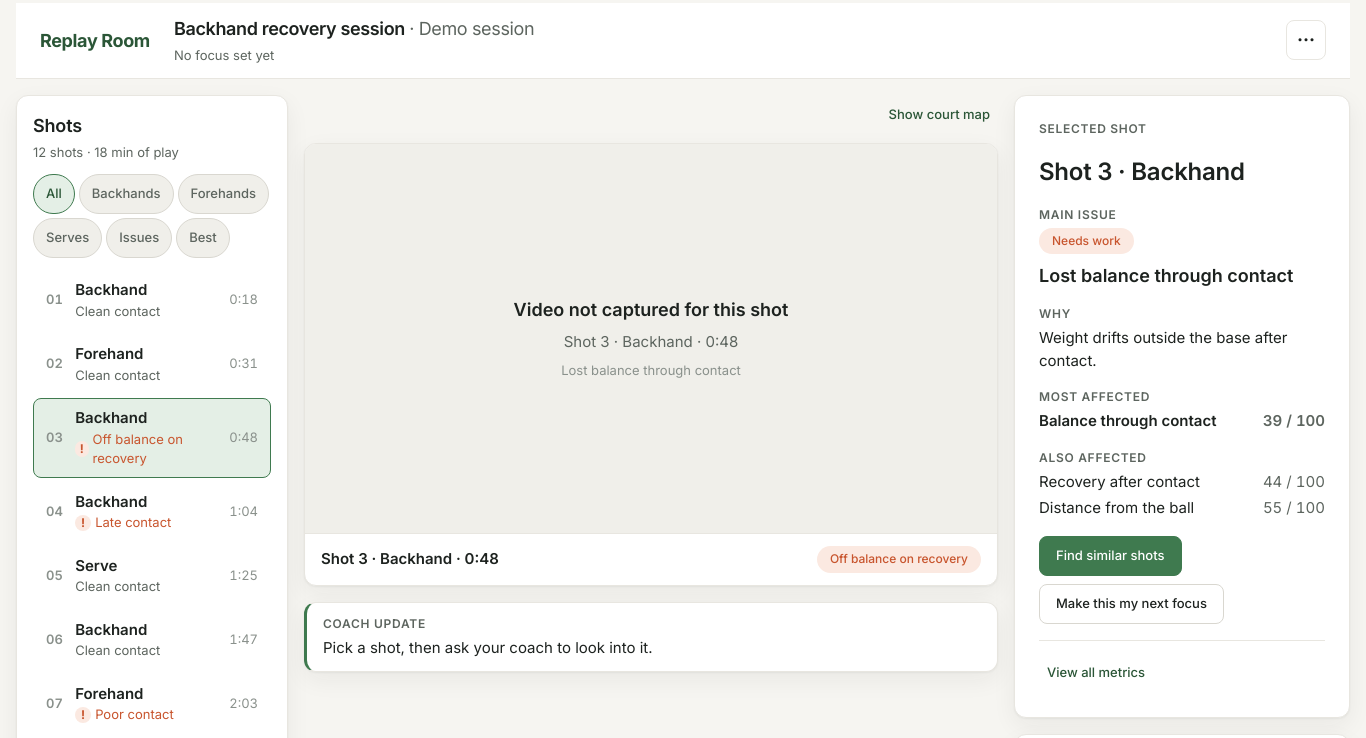
App similar shots and comparison › removing a shot from the strip narrows the shared set
Click the button "Find similar shots".
click(1110, 556)  # box [1039,536,1182,576]
(page scrolled)
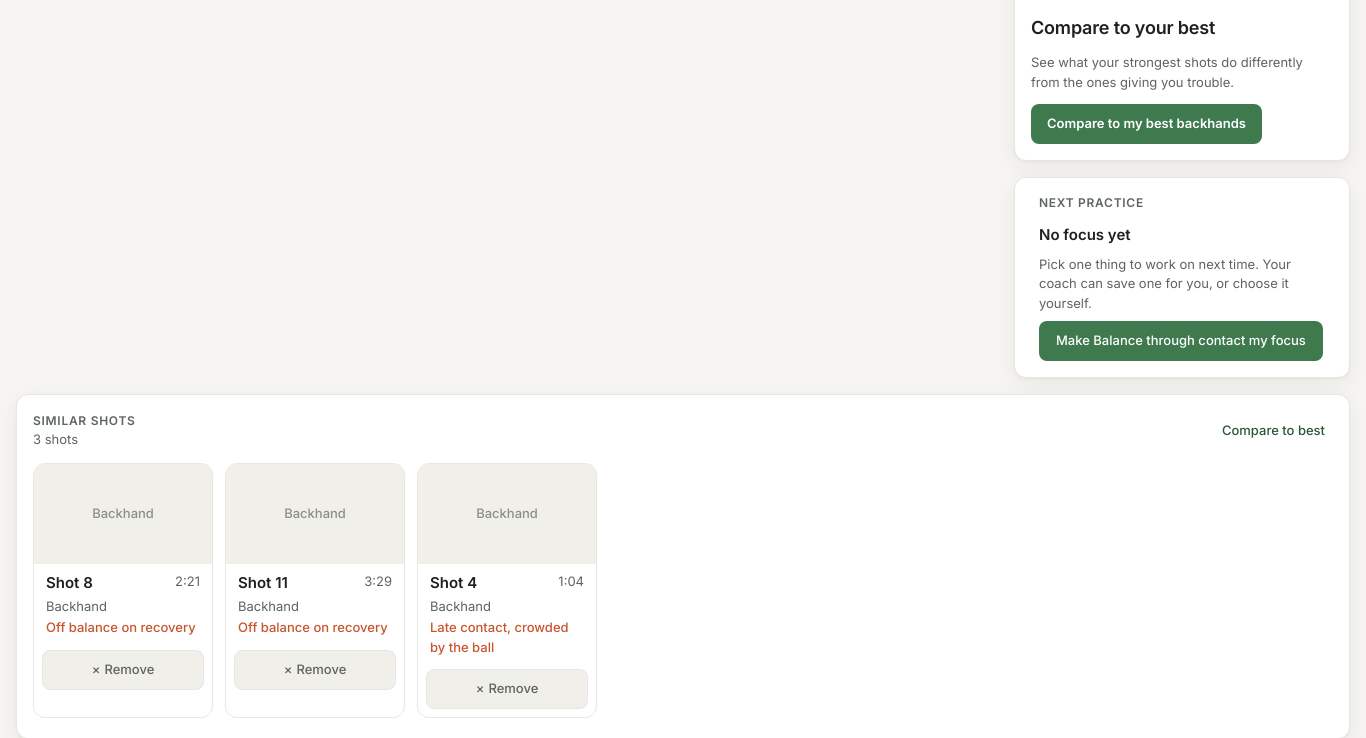
Click the 1st button with class "remove".
click(123, 670)  # box [42,650,204,690]
(page scrolled)
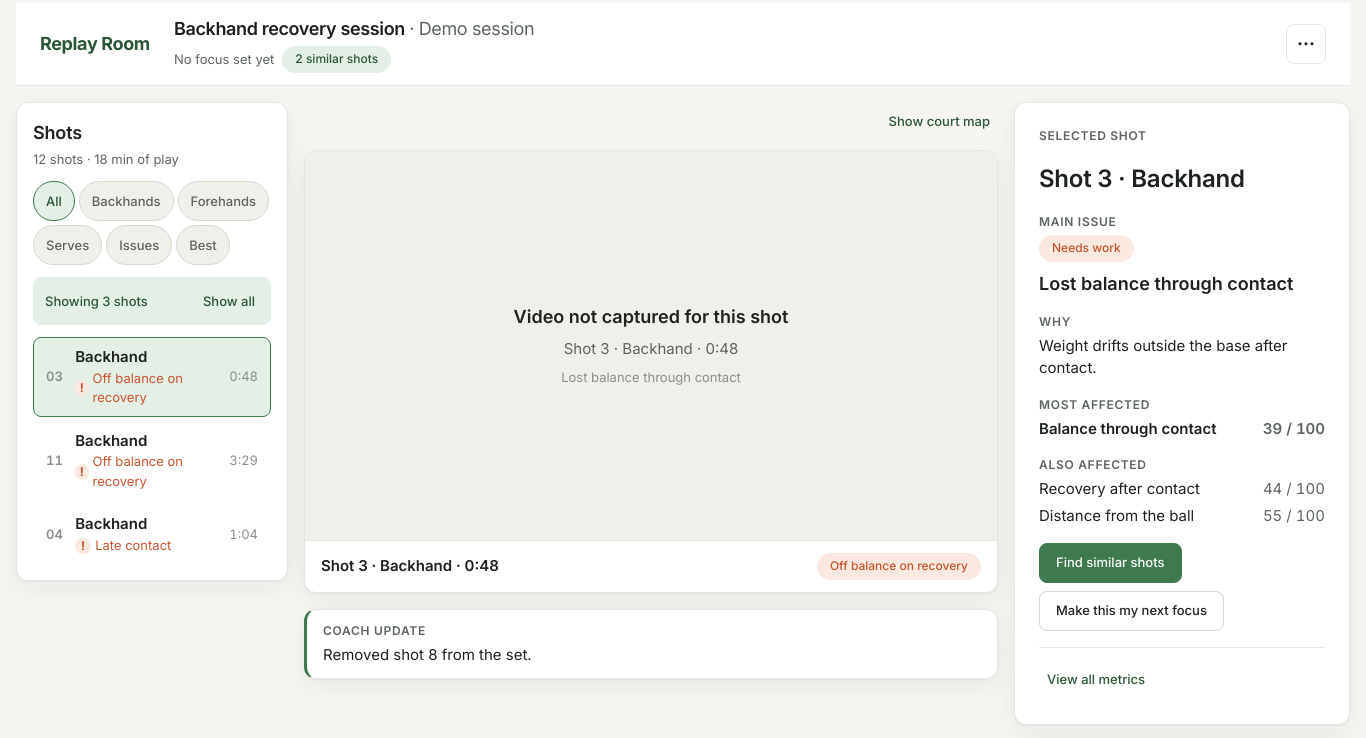
Check: the message with class "coach-bar" shows "Showing 3 shots", box [45,292,148,308]
